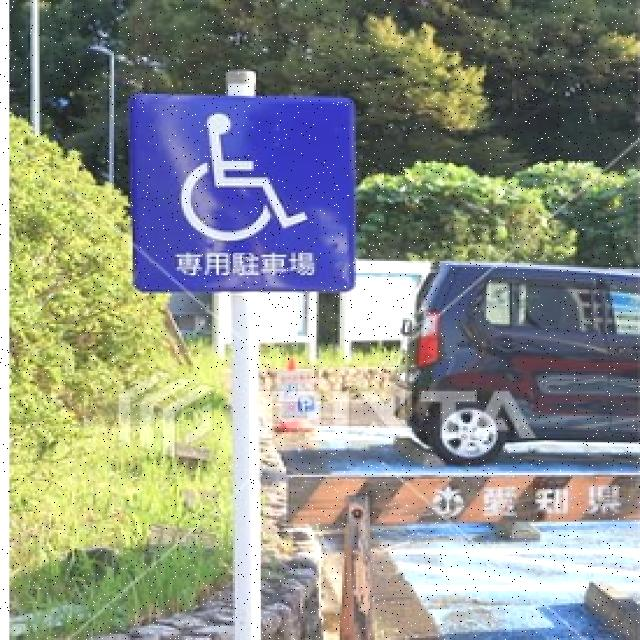symbol_of_access: (126, 91, 360, 296)
